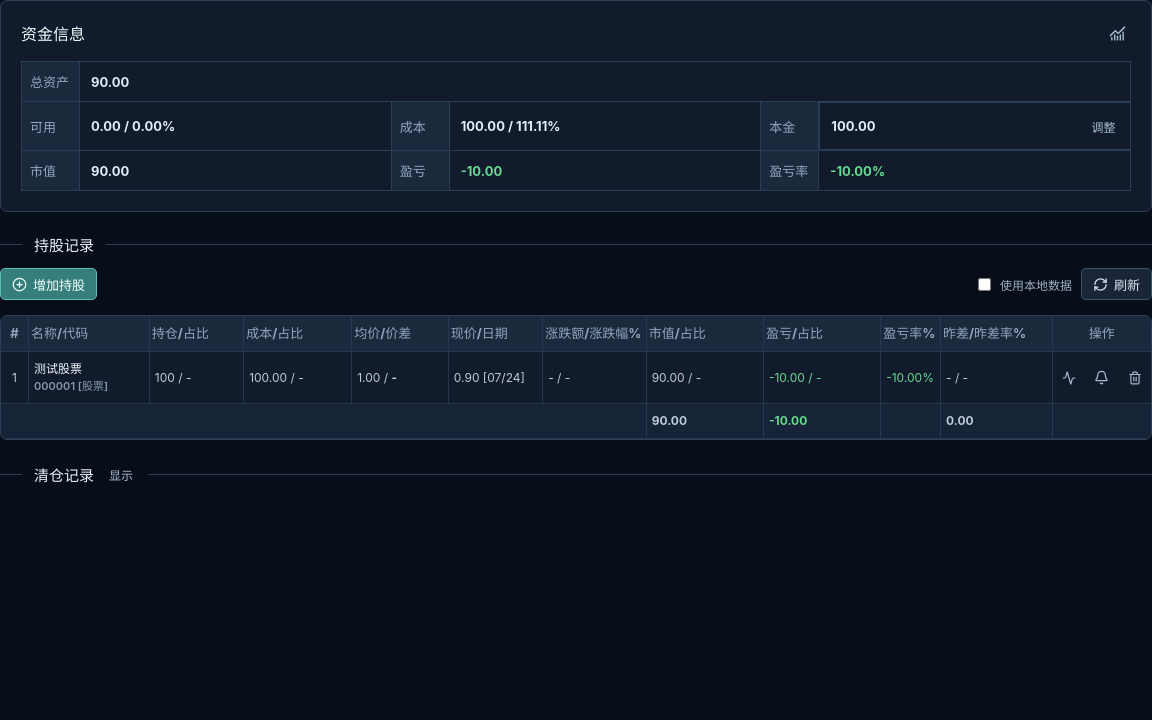
HoldingsView › keeps 全部 range enabled under realtime source with a hint about lookback
Click the button named "查看 测试股票 分时数据".
click(1069, 378)  # box [1055,364,1083,392]
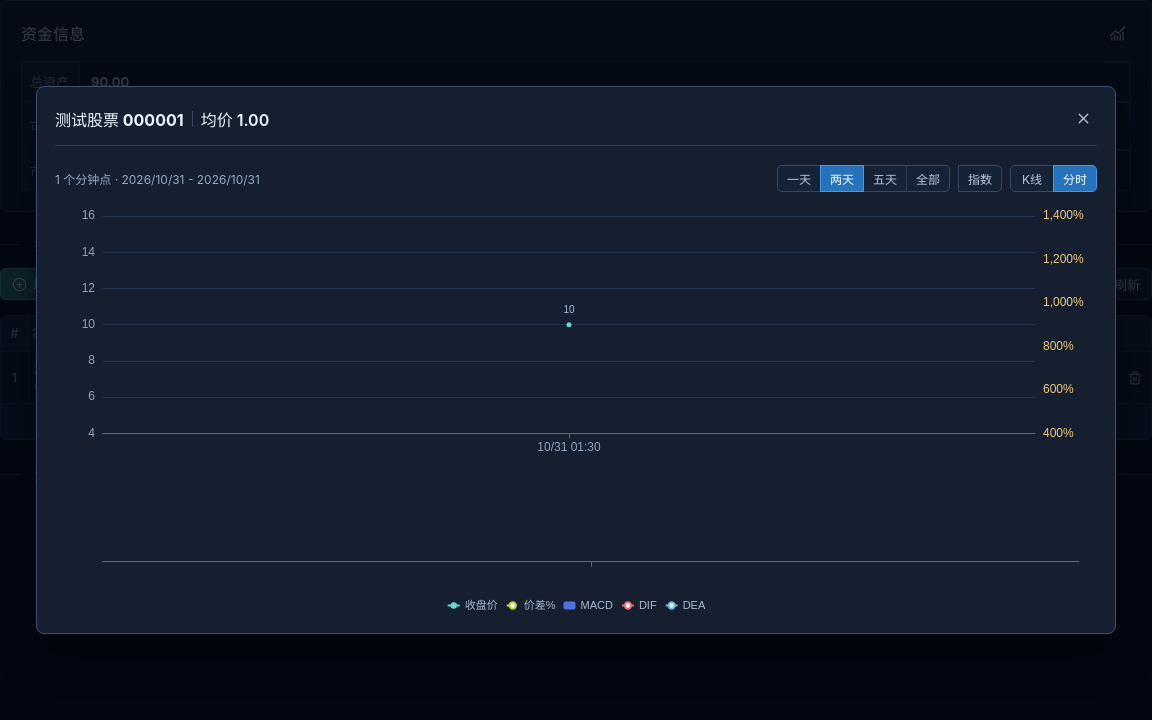
Check: the button with class "intraday-toggle-button" showing "全部" is enabled, box [906,165,950,192]
